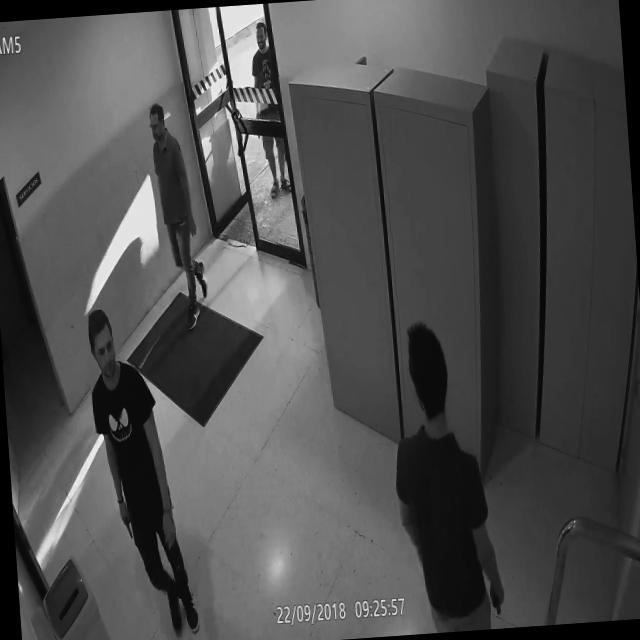gun: (488, 582, 506, 627), (119, 511, 134, 546), (253, 110, 265, 144)
person: (148, 97, 218, 332)
person with a gun: (382, 312, 509, 635), (82, 299, 202, 640), (246, 17, 297, 205)
